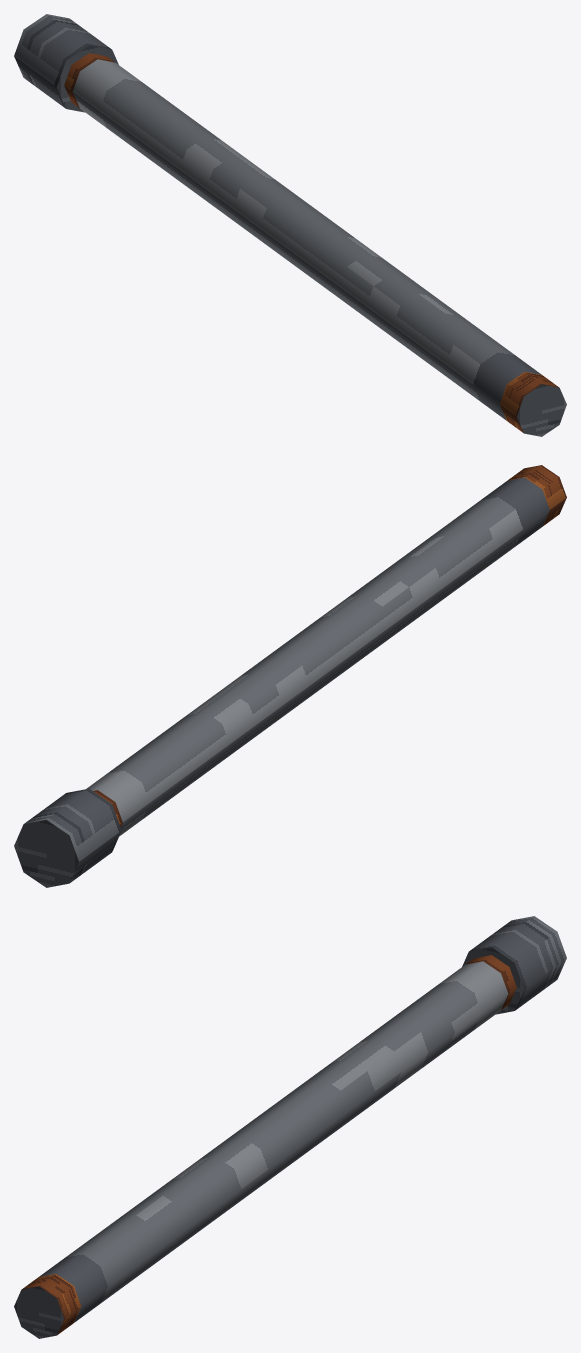
File: INV_MetalPipe.glb
3 views of the same model, one above another, from view 1: azimuth 30°, elevation 25°; view 2: azimuth 150°, elevation 25°; view 3: azimuth 330°, elevation 25° (orthographic).
Parts seen in each view (by area): view 1: INV_MetalPipe_Mesh; view 2: INV_MetalPipe_Mesh; view 3: INV_MetalPipe_Mesh.
Part boxes in pixels (x1,y1,x2,y2): INV_MetalPipe_Mesh: [14, 14, 566, 436]; INV_MetalPipe_Mesh: [14, 465, 566, 887]; INV_MetalPipe_Mesh: [14, 916, 566, 1338].
Size of what is drawn, in the model's own units: 0.044 by 0.044 by 0.58.
Materials: 1 (1 with a texture image).
